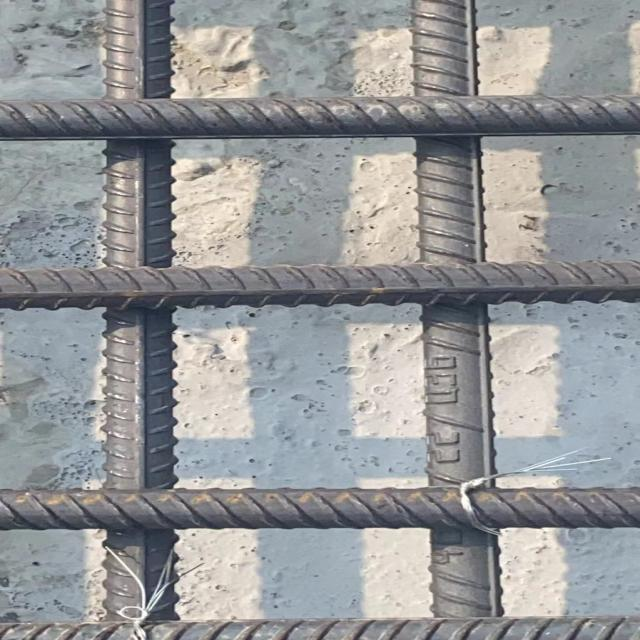ribbed bar: (403, 0, 503, 620), (97, 0, 180, 621), (0, 259, 639, 312), (0, 92, 639, 144), (0, 486, 639, 532), (0, 614, 636, 640)
